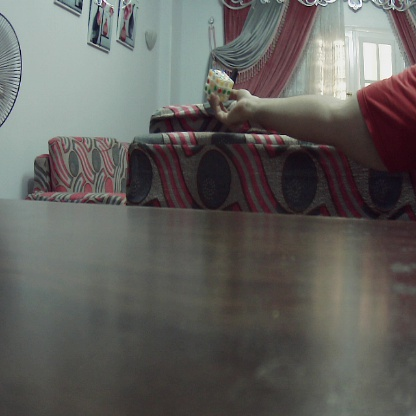Rubix Cube: (204, 69, 234, 105)
